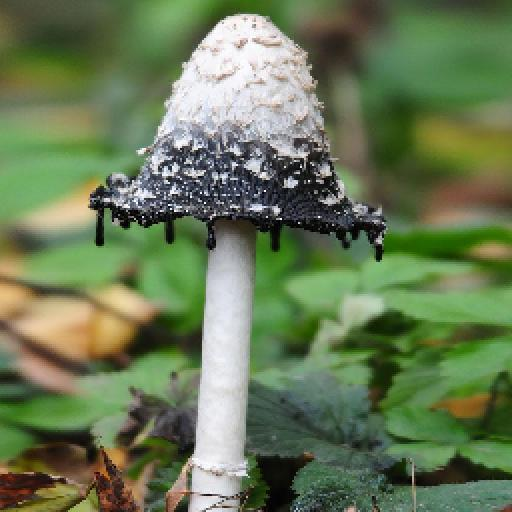mushrooms: (76, 0, 384, 509)
